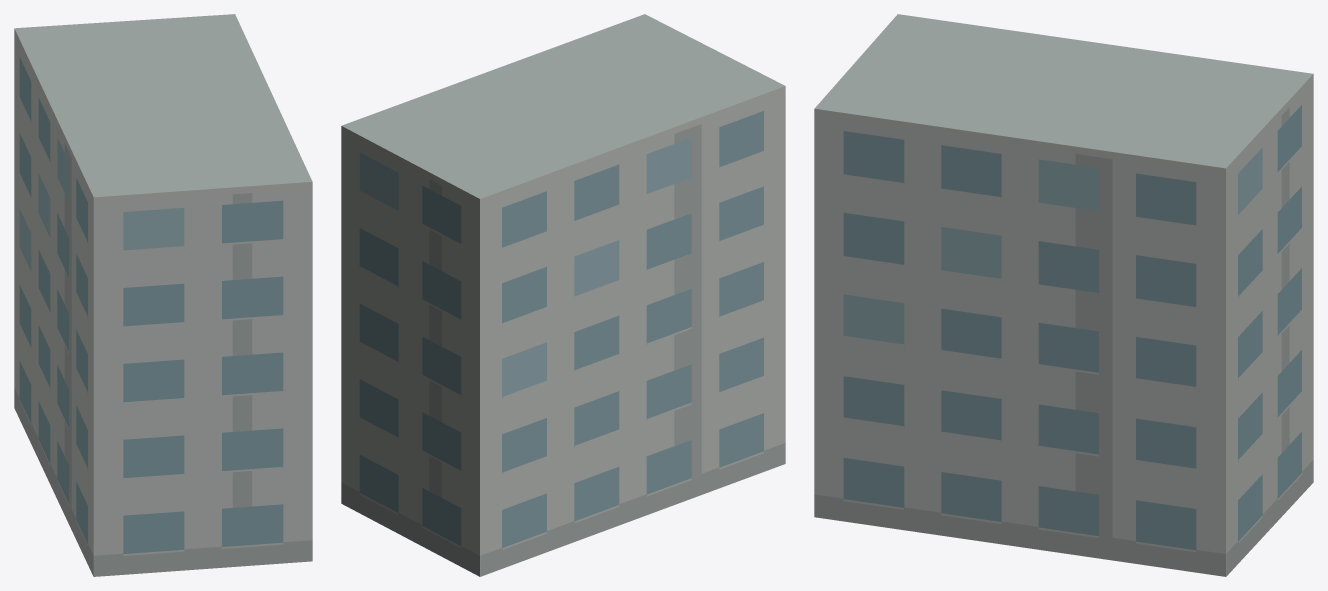
File: survey-upis-32882672.glb
3 views of the same model, side by side, from view 1: azimuth 30°, elevation 25°; view 2: azimuth 150°, elevation 25°; view 3: azimuth 270°, elevation 25° (orthographic). The views are drawn at different scales.
Parts seen in each view (by area): view 1: survey-upis-32882672.tmp; view 2: survey-upis-32882672.tmp; view 3: survey-upis-32882672.tmp.
Boxes of the visible parts, x1,y1,x2,y2 form: survey-upis-32882672.tmp: [14, 14, 312, 576]; survey-upis-32882672.tmp: [341, 14, 785, 576]; survey-upis-32882672.tmp: [814, 14, 1313, 576].
Bounding box in the file's own units: 11.03 × 13.6 × 15.07.
